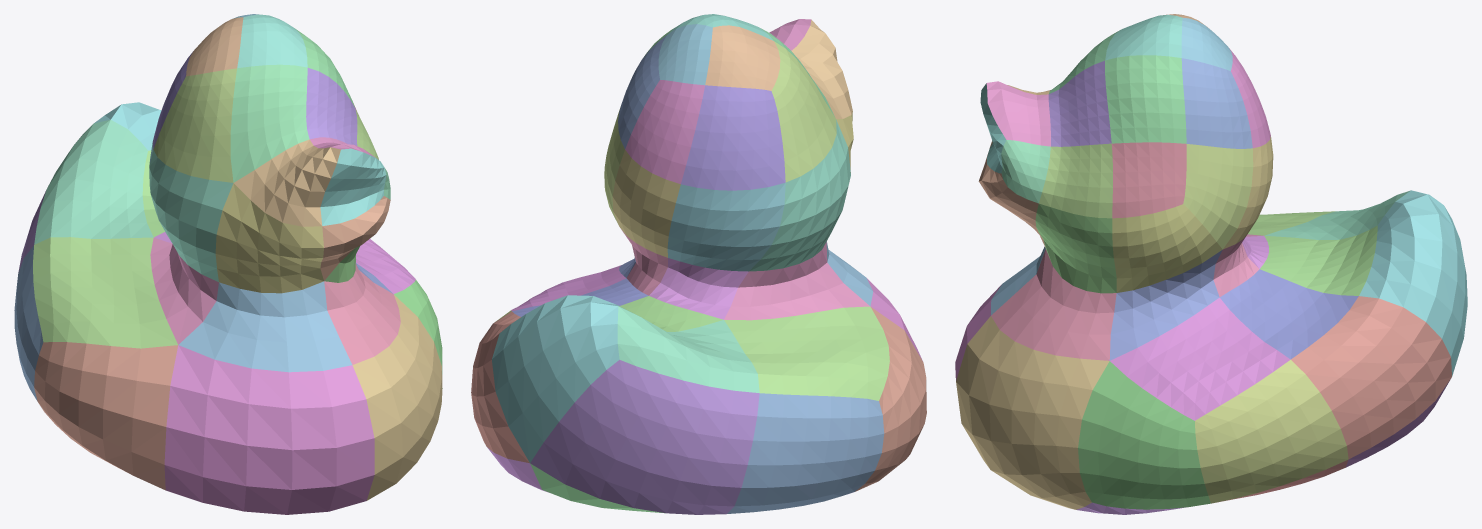
Rendered from duck_quad2_patch_color.obj.
3 renders of one model, left to right at view 1: azimuth 30°, elevation 25°; view 2: azimuth 150°, elevation 25°; view 3: azimuth 270°, elevation 25°, orthographic. The views are drawn at different scales.
Size of the model in its own units: 70.1 by 78.17 by 81.66.
